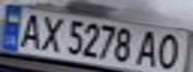2: (78, 20, 103, 58)
5: (60, 17, 87, 56)
7: (97, 22, 118, 61)
8: (115, 25, 139, 64)
A: (133, 28, 163, 69), (15, 11, 45, 50)
O: (154, 30, 184, 71)
X: (36, 12, 66, 52)
